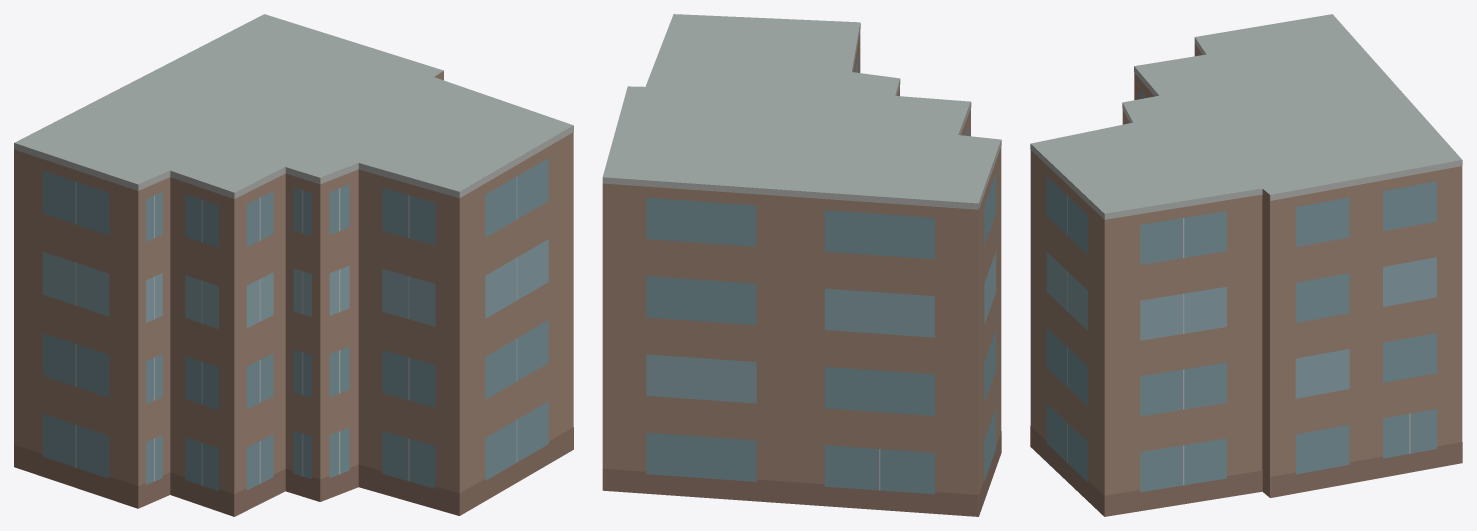
Rendered from survey-upis-32881232.glb.
3 views of the same model, side by side, from view 1: azimuth 30°, elevation 25°; view 2: azimuth 150°, elevation 25°; view 3: azimuth 270°, elevation 25° (orthographic). The views are drawn at different scales.
Parts seen in each view (by area): view 1: survey-upis-32881232.tmp; view 2: survey-upis-32881232.tmp; view 3: survey-upis-32881232.tmp.
Boxes of the visible parts, x1,y1,x2,y2 form: survey-upis-32881232.tmp: [14, 14, 573, 516]; survey-upis-32881232.tmp: [602, 14, 1001, 516]; survey-upis-32881232.tmp: [1030, 14, 1462, 516].
Size of the model in its own units: 17.25 by 12.2 by 15.77.
